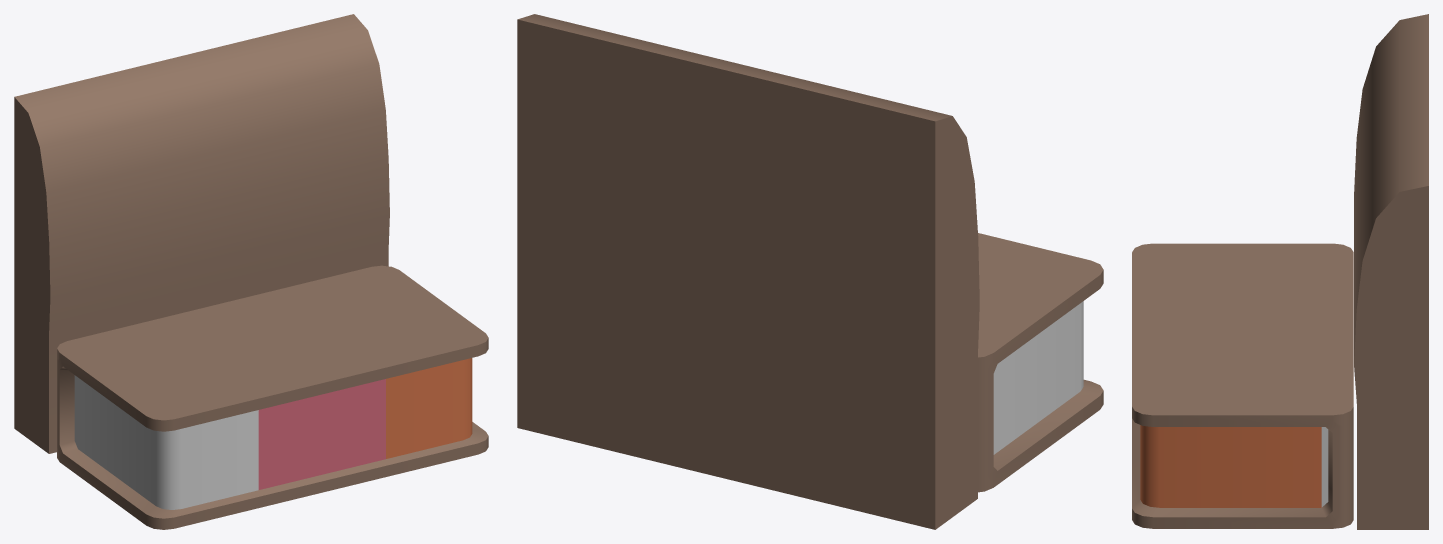
Rendered from IceCreamSandwichChairR2.fbx.
The picture shows the model from 3 angles, left to right: view 1: azimuth 30°, elevation 25°; view 2: azimuth 150°, elevation 25°; view 3: azimuth 270°, elevation 25°; orthographic projection. The views are drawn at different scales.
Parts seen in each view (by area): view 1: IceCreanSandwichChairR2; view 2: IceCreanSandwichChairR2; view 3: IceCreanSandwichChairR2.
Part boxes in pixels (x1=…): IceCreanSandwichChairR2: x1=14, y1=14, x2=488, y2=529; IceCreanSandwichChairR2: x1=517, y1=14, x2=1103, y2=529; IceCreanSandwichChairR2: x1=1132, y1=14, x2=1428, y2=529.
Bounding box in the file's own units: 6.51 × 6.06 × 4.74.
